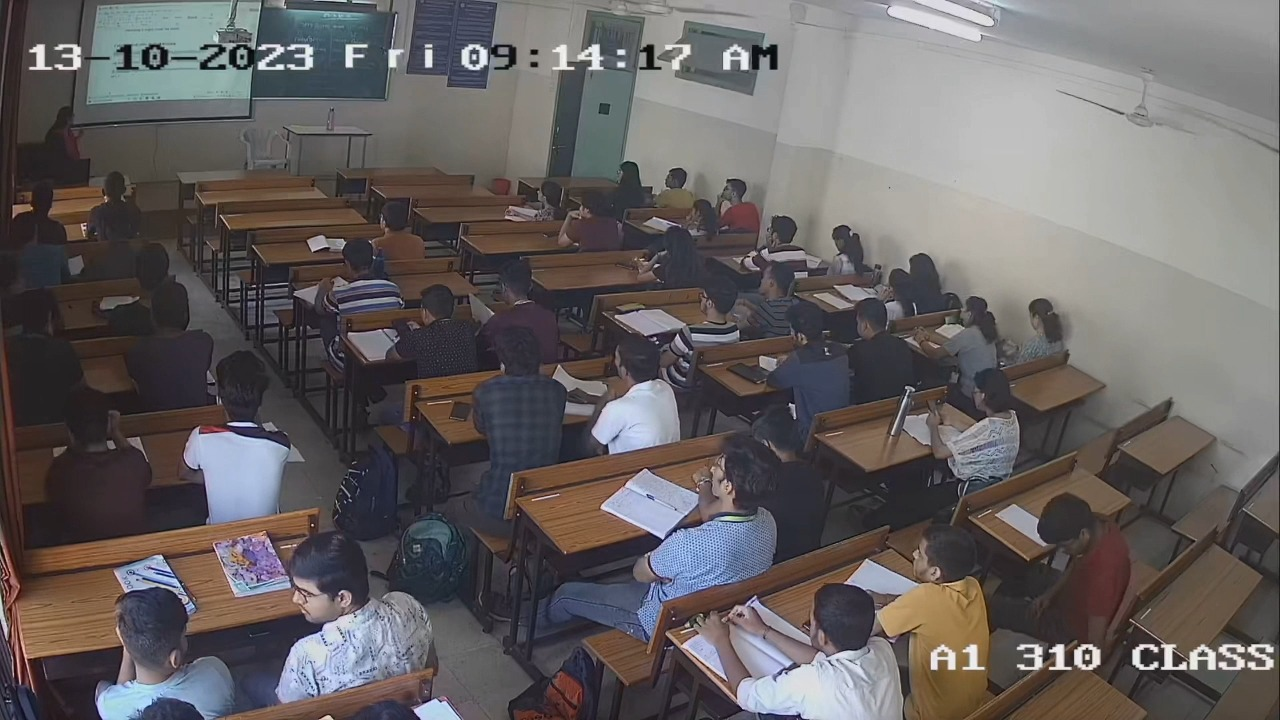cell-phones: (449, 397, 473, 424), (928, 397, 945, 426), (392, 317, 414, 339), (614, 261, 636, 271), (542, 229, 560, 238)
person: (471, 325, 568, 470), (944, 367, 1021, 479), (395, 285, 472, 369), (640, 226, 710, 287), (559, 192, 619, 251)
